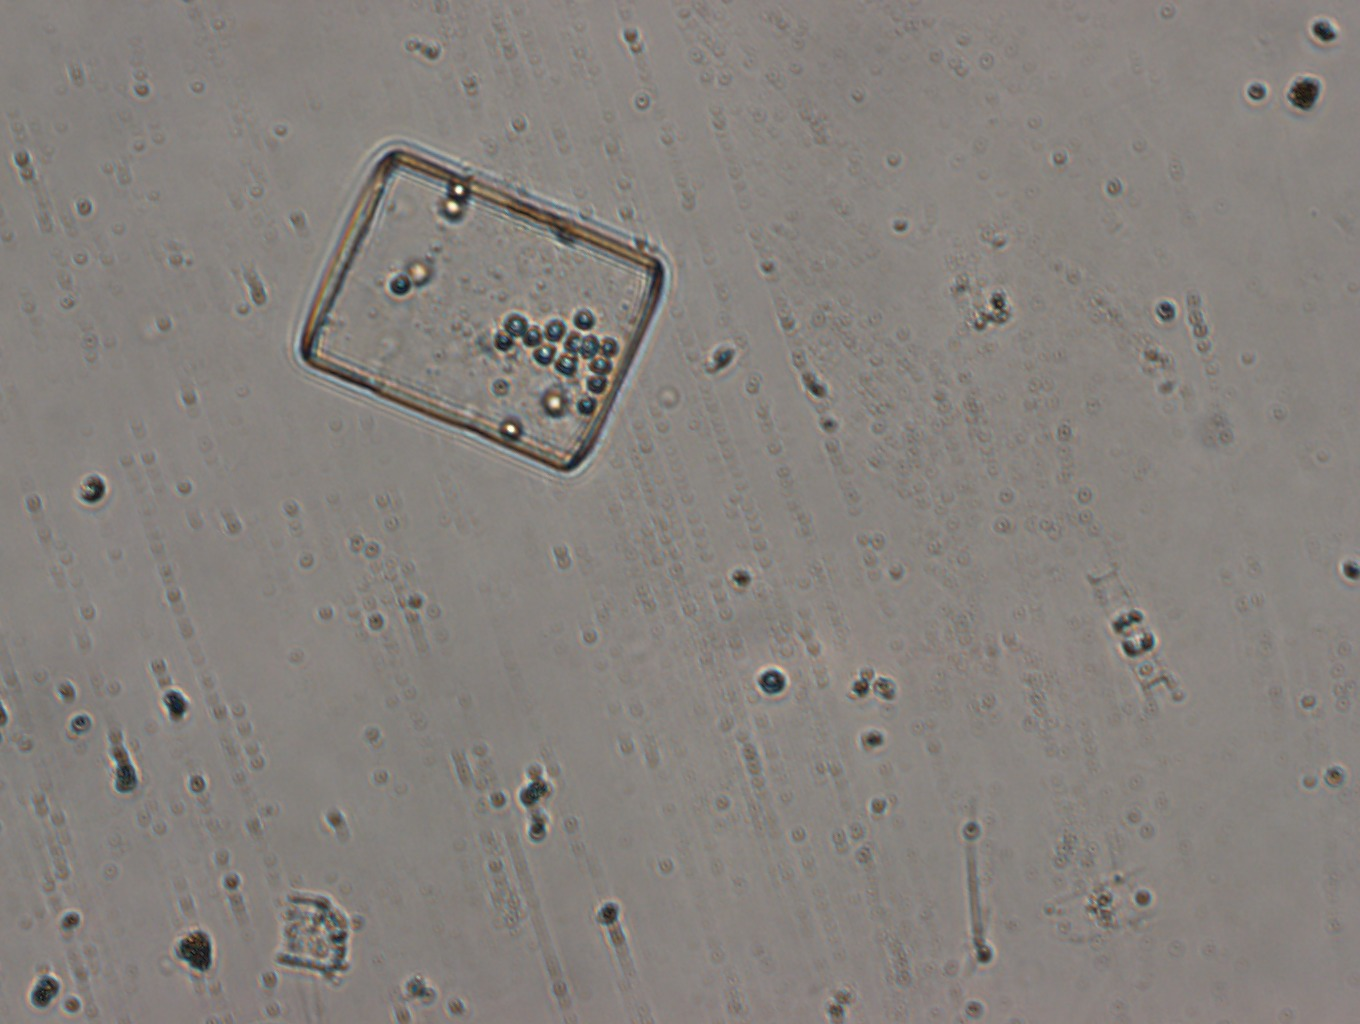guinardia flaccida: (294, 143, 670, 480)
skeletonema: (1083, 566, 1179, 716)
